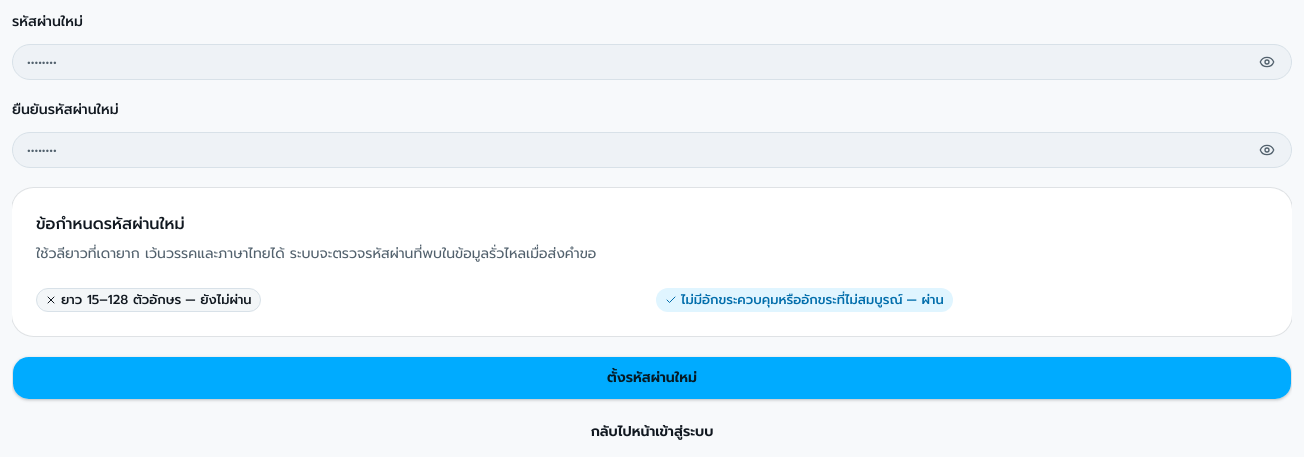
Test: ResetPasswordForm › requires a fresh sign-in after success while preserving the safe destination
The image size is (1304, 457).
Type "NewPassphrase123!" into the password field labelled "รหัสผ่านใหม่".
click(632, 62); type("NewPassphrase123!")  # box [13,40,1251,84]
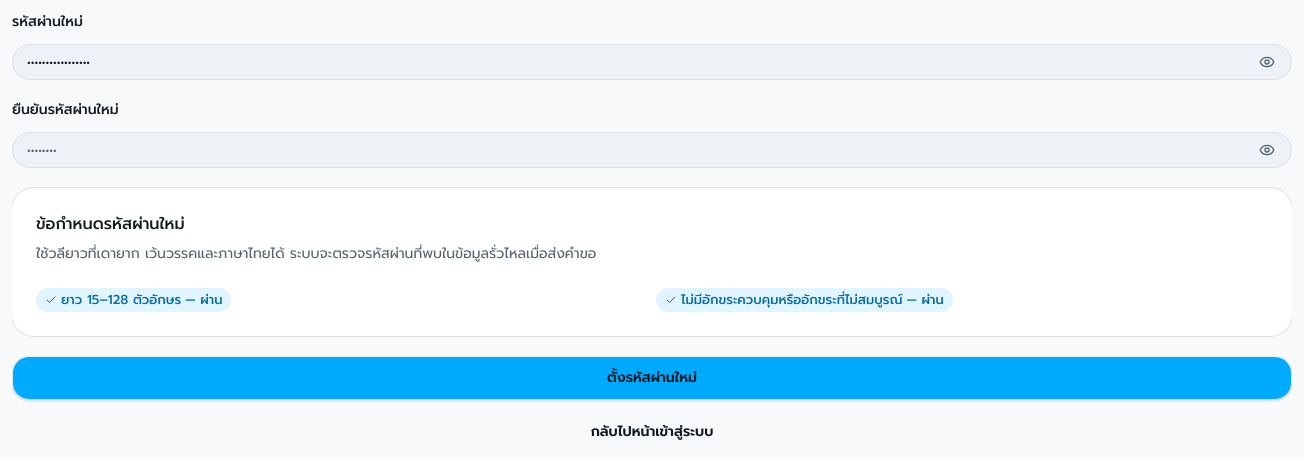
Type "NewPassphrase123!" into the password field labelled "ยืนยันรหัสผ่านใหม่".
click(632, 150); type("NewPassphrase123!")  # box [13,128,1251,172]
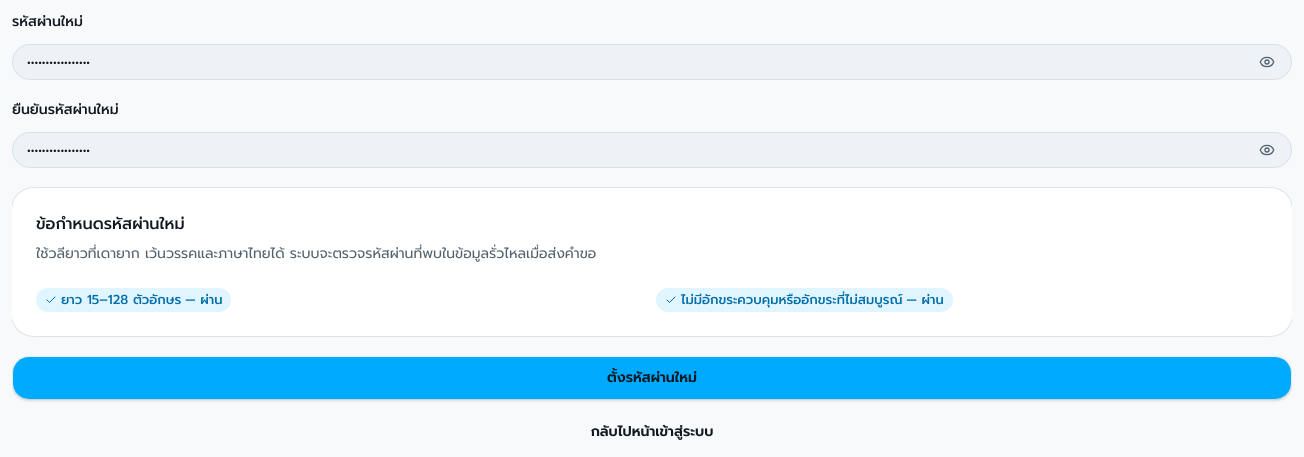
Submit the form labelled "รหัสผ่านใหม่"
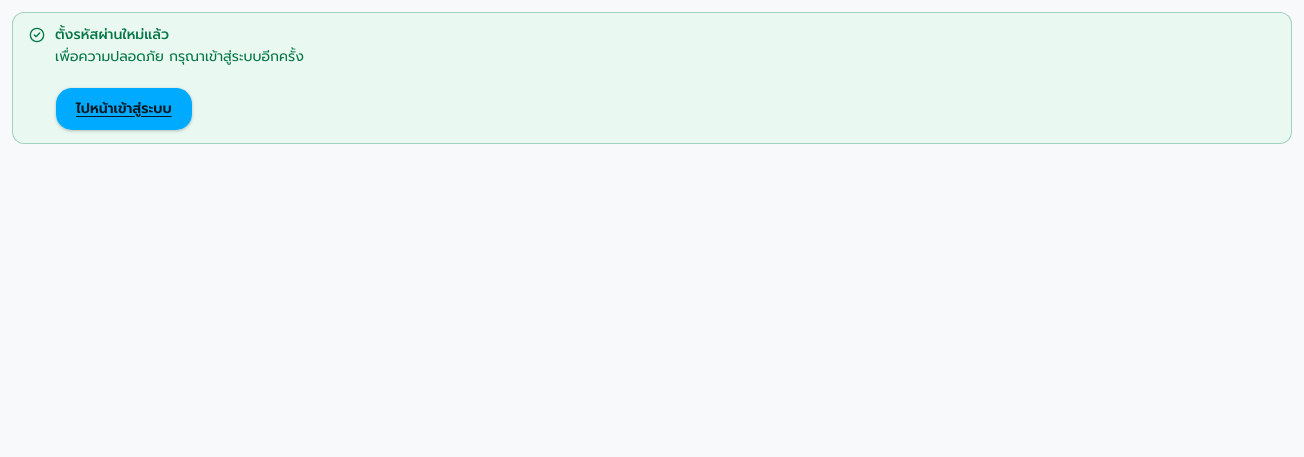
Check: the text "ตั้งรหัสผ่านใหม่แล้ว" is shown, box [55,24,169,45]
Check: the text "เพื่อความปลอดภัย กรุณาเข้าสู่ระบบอีกครั้ง" is shown, box [55,46,304,67]
